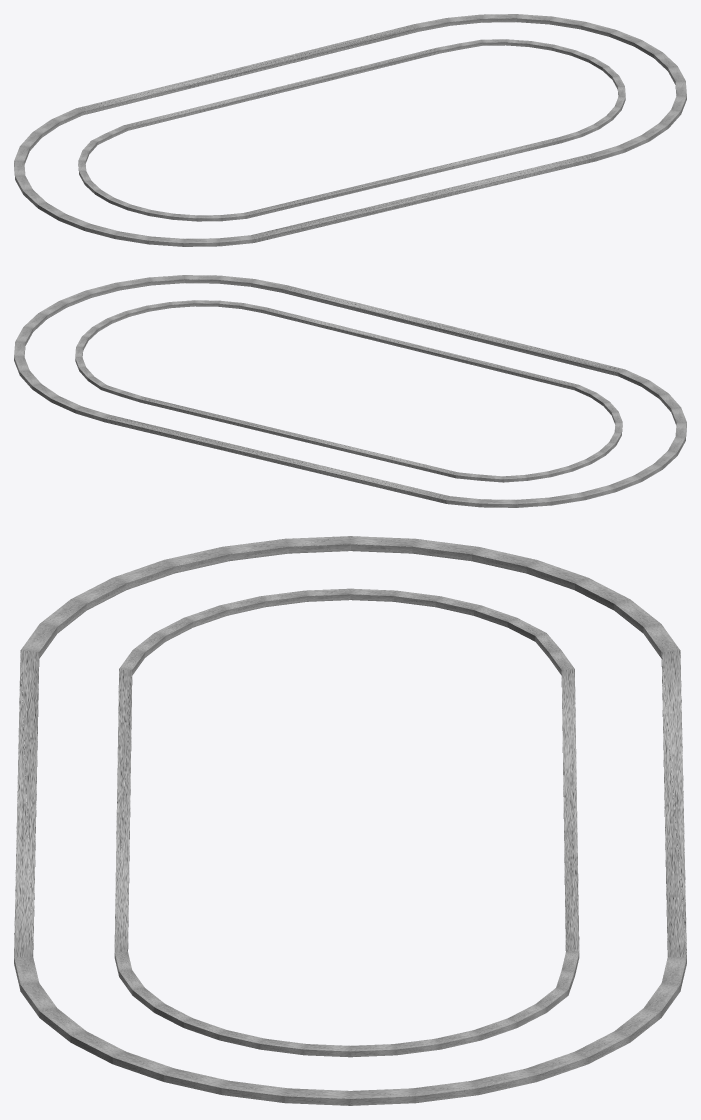
The model's file is track3_walls.obj.
3 views of the same model, one above another, from view 1: azimuth 30°, elevation 25°; view 2: azimuth 150°, elevation 25°; view 3: azimuth 270°, elevation 25° (orthographic). The views are drawn at different scales.
Visible parts, largest first — view 1: Circle.000_Circle.000, Circle.002_Circle.000; view 2: Circle.000_Circle.000, Circle.002_Circle.000; view 3: Circle.000_Circle.000, Circle.002_Circle.000.
Boxes of the visible parts, x1,y1,x2,y2 form: Circle.000_Circle.000: [14, 14, 686, 246]; Circle.002_Circle.000: [78, 39, 625, 221]; Circle.000_Circle.000: [14, 275, 686, 507]; Circle.002_Circle.000: [75, 300, 622, 482]; Circle.000_Circle.000: [14, 536, 686, 1105]; Circle.002_Circle.000: [114, 588, 579, 1057].
Size of the model in its own units: 211 by 1.2 by 106.
Materials: 2 (2 with a texture image).
